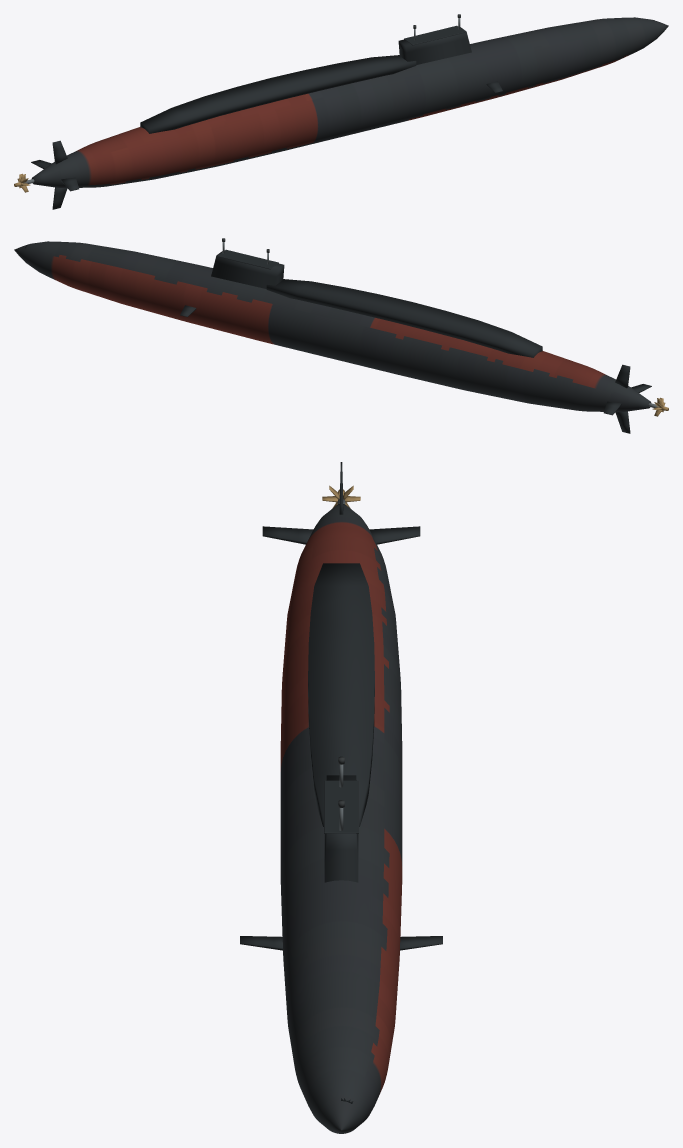
Rendered from FR_SSBN_LeRedoutable.glb.
3 renders of one model, top to bottom at view 1: azimuth 30°, elevation 25°; view 2: azimuth 150°, elevation 25°; view 3: azimuth 270°, elevation 25°, orthographic. The views are drawn at different scales.
Visible parts, largest first — view 1: FR_SSBN_LeRedoutable_LOD0; view 2: FR_SSBN_LeRedoutable_LOD0; view 3: FR_SSBN_LeRedoutable_LOD0.
Part boxes in pixels (x1,y1,x2,y2): FR_SSBN_LeRedoutable_LOD0: (14,14,668,209); FR_SSBN_LeRedoutable_LOD0: (14,238,668,433); FR_SSBN_LeRedoutable_LOD0: (240,462,442,1133).
Size of the model in its own units: 132 by 18.41 by 17.72.
6 materials, 1 textured.
